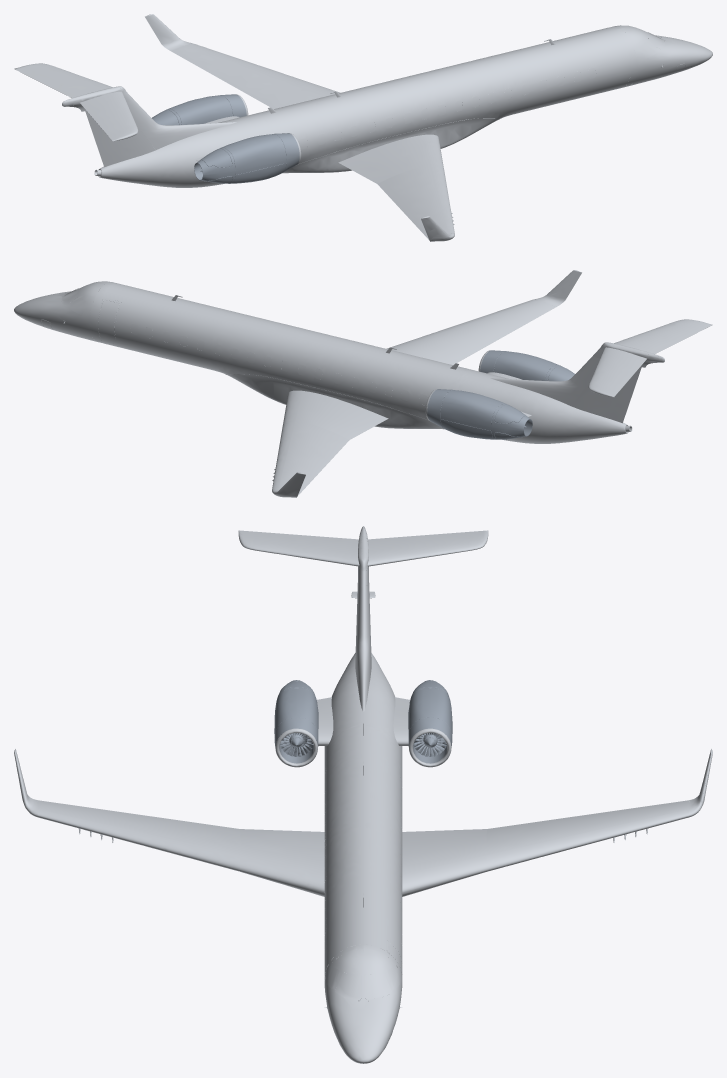
Rendered from jato-regional.lite.glb.
3 views of the same model, one above another, from view 1: azimuth 30°, elevation 25°; view 2: azimuth 150°, elevation 25°; view 3: azimuth 270°, elevation 25° (orthographic). The views are drawn at different scales.
Parts seen in each view (by area): view 1: Fuselagem, Asas, Motores, Deriva, Estabilizadores, Nariz, Winglets; view 2: Fuselagem, Asas, Motores, Deriva, Estabilizadores, Nariz, Winglets; view 3: Fuselagem, Asas, Nariz, Motores, Estabilizadores, Deriva, Winglets.
Part boxes in pixels (x1,y1,x2,y2): Fuselagem: (94, 27, 630, 187); Asas: (171, 44, 454, 240); Motores: (152, 94, 299, 183); Deriva: (62, 86, 276, 175); Estabilizadores: (14, 63, 138, 141); Nariz: (610, 25, 712, 87); Winglets: (145, 14, 454, 241); Fuselagem: (96, 283, 632, 443); Asas: (272, 300, 555, 496); Motores: (427, 350, 574, 439); Deriva: (450, 342, 664, 431); Estabilizadores: (588, 319, 712, 397); Nariz: (14, 281, 121, 342); Winglets: (272, 270, 581, 497); Fuselagem: (275, 653, 451, 980); Asas: (37, 800, 689, 896); Nariz: (324, 944, 402, 1063); Motores: (274, 680, 452, 763); Estabilizadores: (238, 530, 488, 566); Deriva: (351, 526, 375, 735); Winglets: (14, 749, 712, 817).
Size of the model in its own units: 5.2 by 1 by 3.84.
